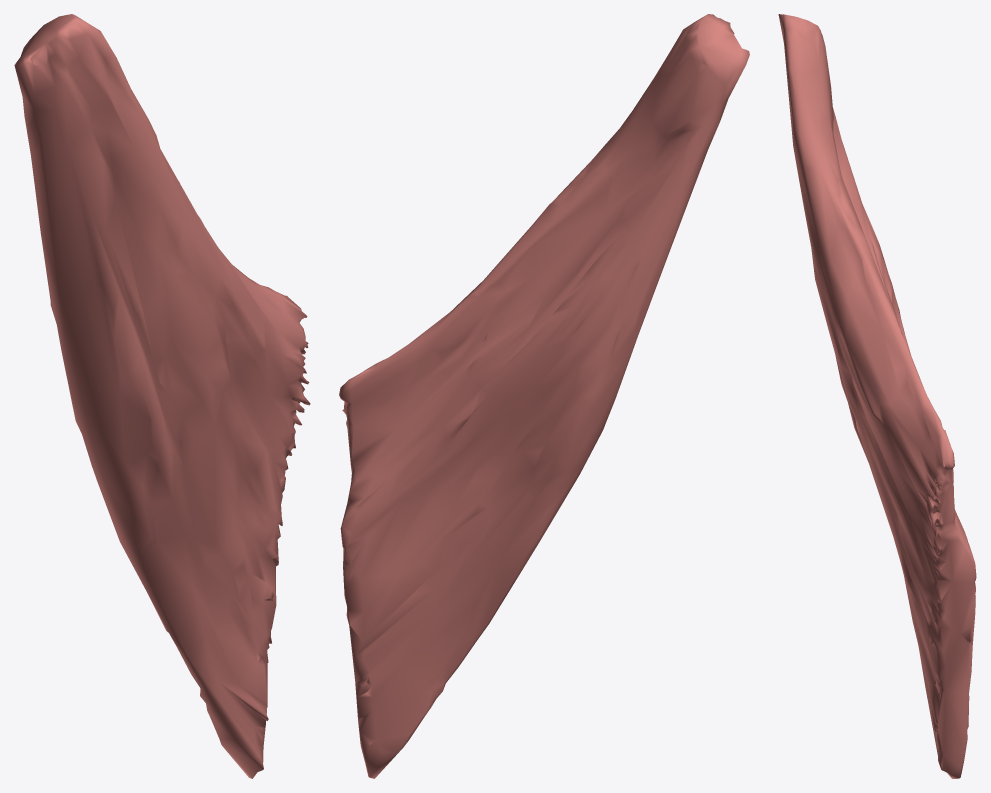
3 views of the same model, side by side, from view 1: azimuth 30°, elevation 25°; view 2: azimuth 150°, elevation 25°; view 3: azimuth 270°, elevation 25° (orthographic). The views are drawn at different scales.
Parts seen in each view (by area): view 1: ZA_712c14ff27e71785; view 2: ZA_712c14ff27e71785; view 3: ZA_712c14ff27e71785.
Part boxes in pixels (x1=…): ZA_712c14ff27e71785: x1=14, y1=14, x2=310, y2=778; ZA_712c14ff27e71785: x1=339, y1=14, x2=749, y2=778; ZA_712c14ff27e71785: x1=778, y1=14, x2=976, y2=778.
Bounding box in the file's own units: 0.0791 × 0.1763 × 0.0478.
